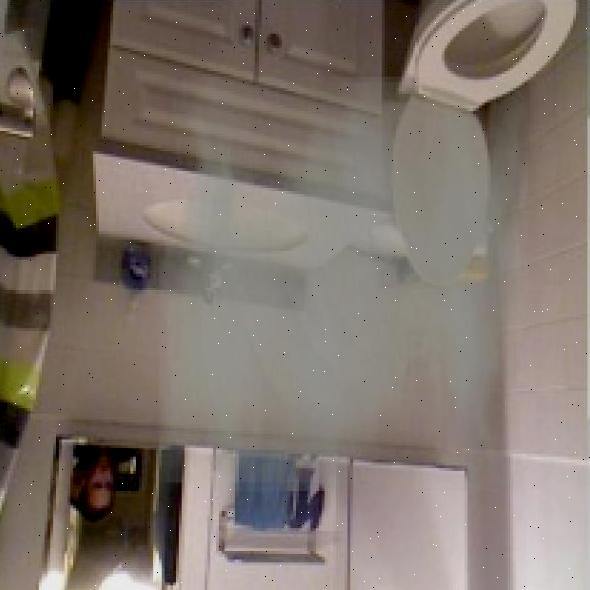smoke: (159, 77, 527, 491)
